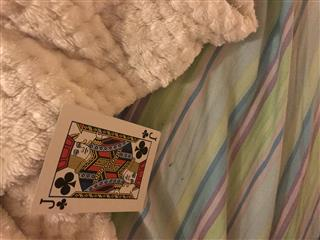JackOfClubs: (29, 103, 161, 211)
